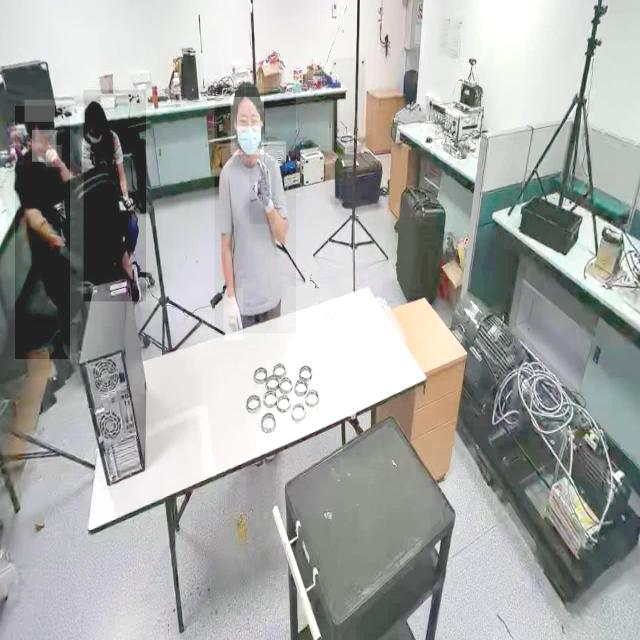face_mask: (230, 97, 264, 155)
face_nomask: (32, 130, 56, 162)
hand_glove: (249, 161, 275, 224), (223, 288, 243, 341)
hand_noglove: (46, 145, 61, 168)
head_nohelmet: (233, 80, 264, 106), (24, 100, 55, 122), (85, 100, 105, 122)
person: (214, 87, 296, 334), (14, 106, 70, 360), (83, 90, 146, 302)
